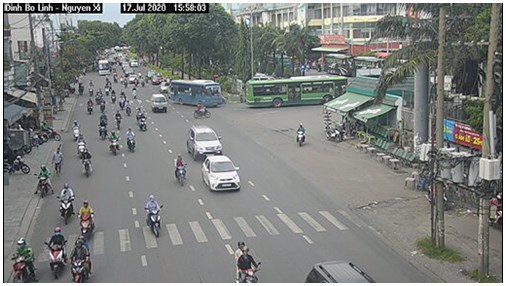di_bo: (52, 144, 65, 175)
xe_buyt: (247, 76, 350, 106), (170, 79, 223, 108)
xe_hoi: (200, 156, 244, 196), (184, 123, 225, 160), (151, 92, 168, 115)
xe_may: (7, 234, 38, 282), (140, 193, 164, 239), (45, 225, 66, 277), (70, 234, 92, 281), (57, 181, 76, 222), (31, 164, 55, 196), (78, 196, 94, 236), (171, 154, 189, 187), (191, 99, 212, 121), (80, 148, 93, 177), (108, 129, 119, 155), (75, 133, 86, 156), (296, 121, 305, 147), (98, 117, 108, 140), (126, 127, 135, 152), (69, 122, 80, 139), (84, 98, 95, 115), (97, 96, 106, 113), (114, 110, 122, 129), (125, 98, 133, 117), (139, 113, 147, 131)
